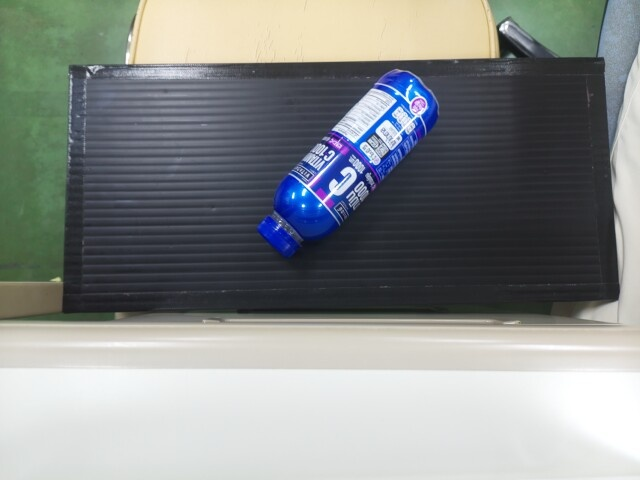plastic_bottle: (264, 68, 442, 254)
